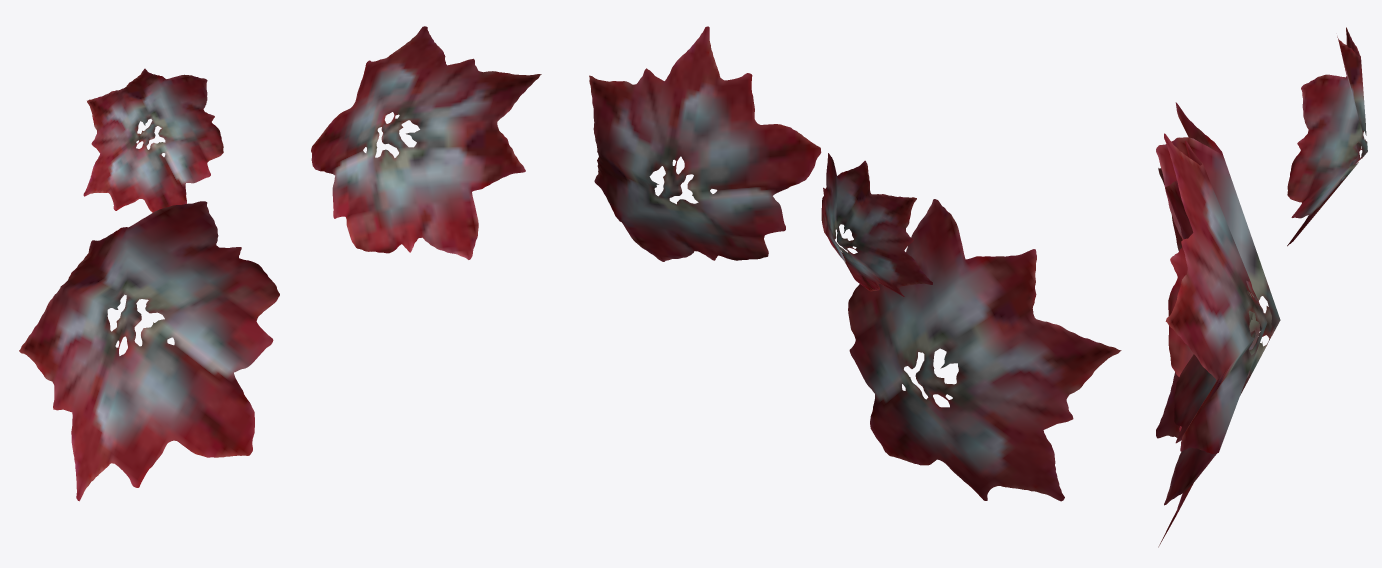
3 renders of one model, left to right at view 1: azimuth 30°, elevation 25°; view 2: azimuth 150°, elevation 25°; view 3: azimuth 270°, elevation 25°, orthographic. The views are drawn at different scales.
Visible parts, largest first — view 1: Object16; view 2: Object16; view 3: Object16.
Boxes of the visible parts, <box> form: Object16: <box>19,26,541,501</box>; Object16: <box>589,26,1121,501</box>; Object16: <box>1156,27,1367,547</box>.
Size of the model in its own units: 21854 by 18224 by 5328.
